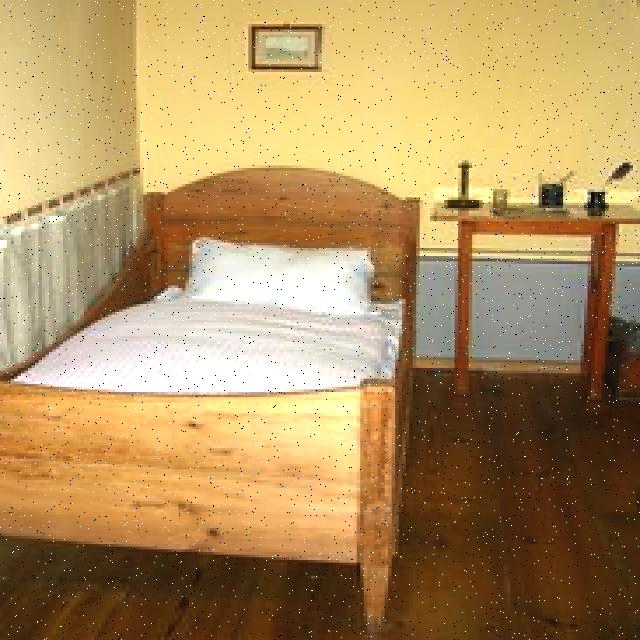bed: (0, 160, 430, 589)
